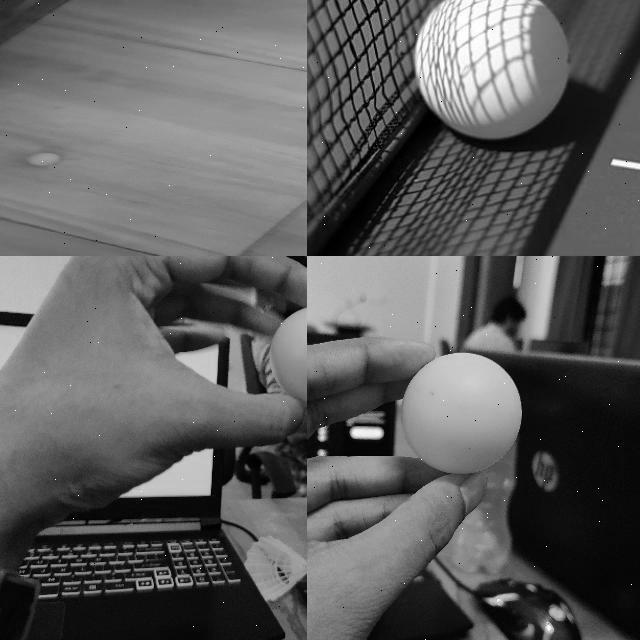ping-pong-ball: (412, 0, 568, 139), (403, 352, 523, 472), (269, 306, 306, 407), (24, 154, 62, 164)
